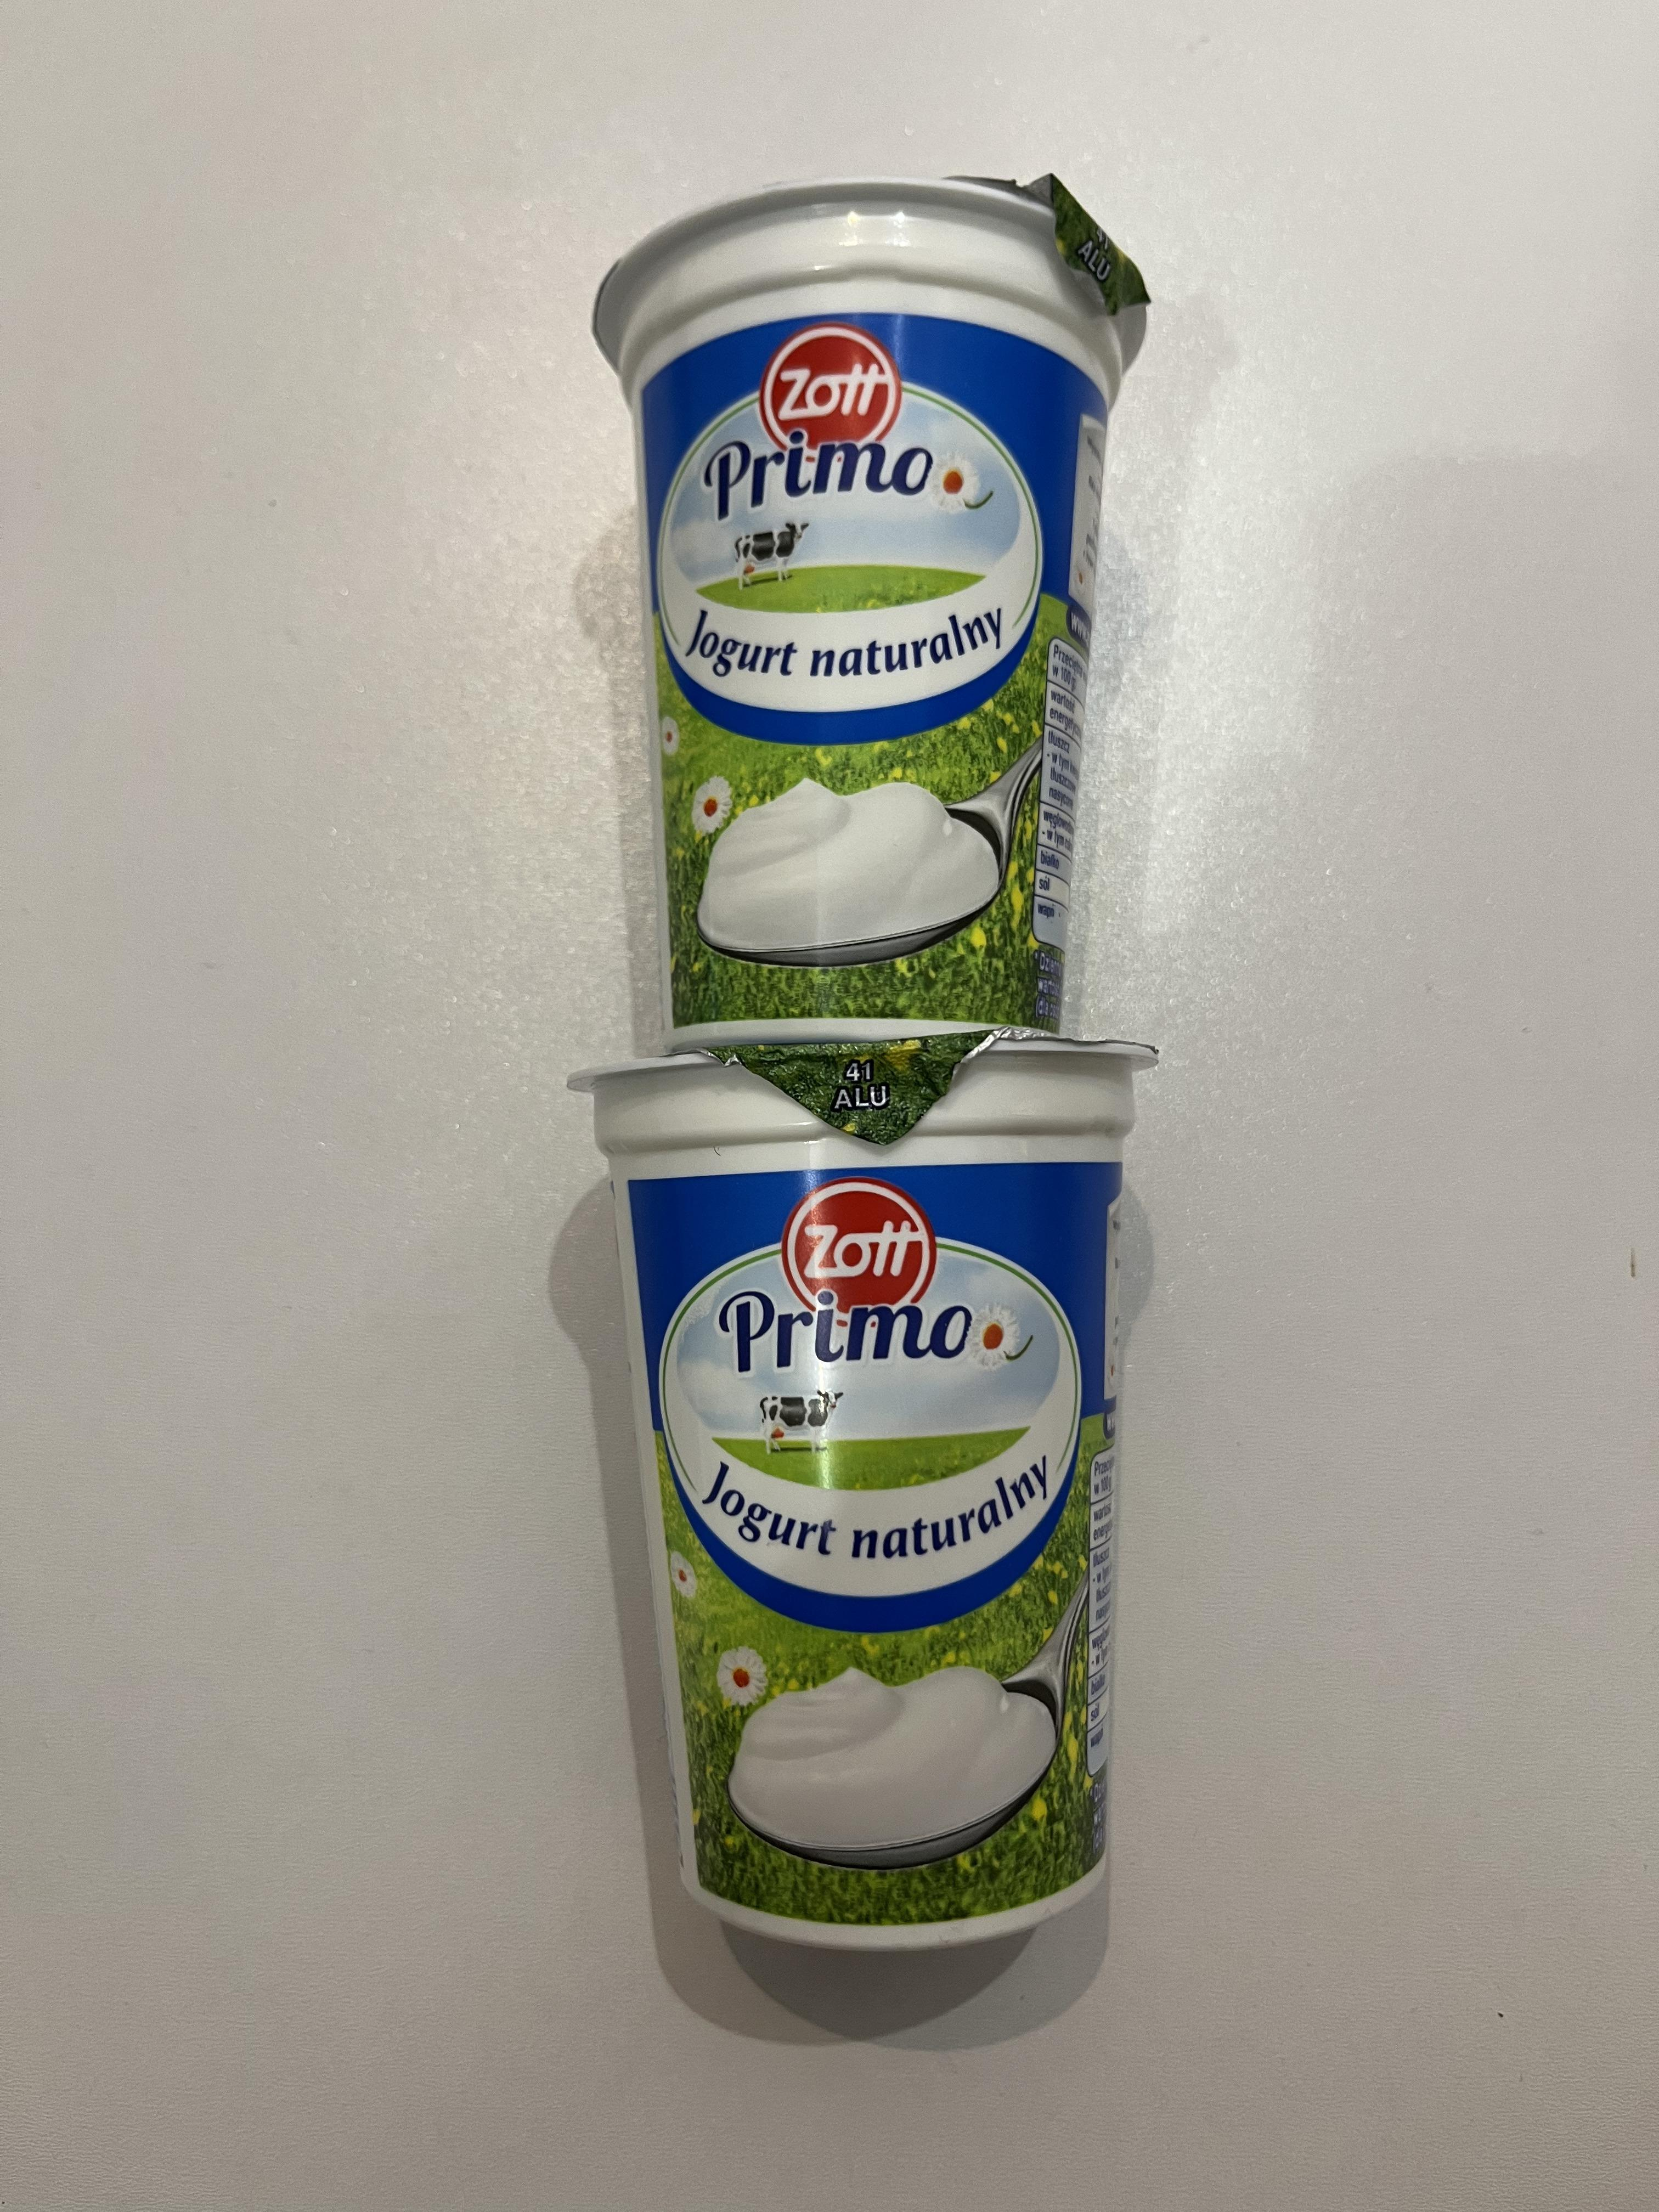Yogurt: (573, 1068, 1168, 1946), (620, 179, 1121, 1040)
